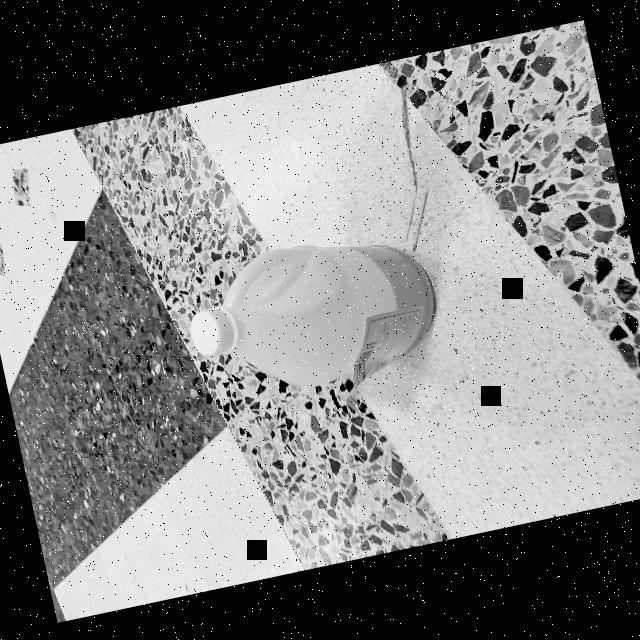chemical_plastic_gallon: (150, 204, 464, 431)
